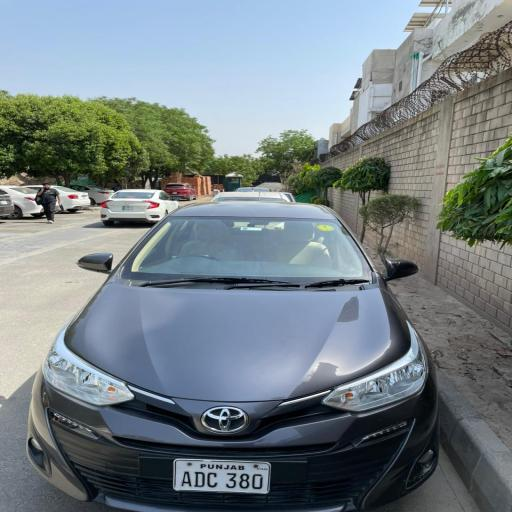bnu_sticker: (316, 224, 335, 232)
number_plate: (174, 460, 271, 494)
